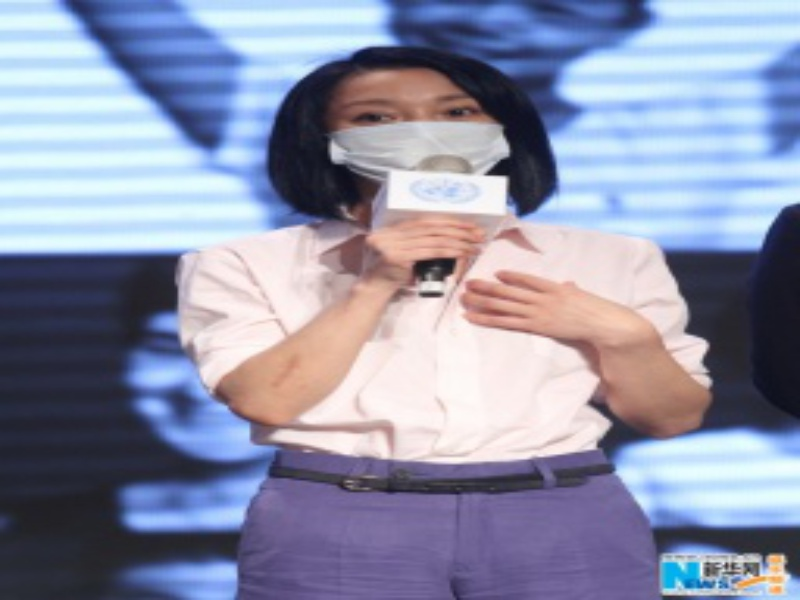ManaoArotava: (312, 35, 532, 218)
